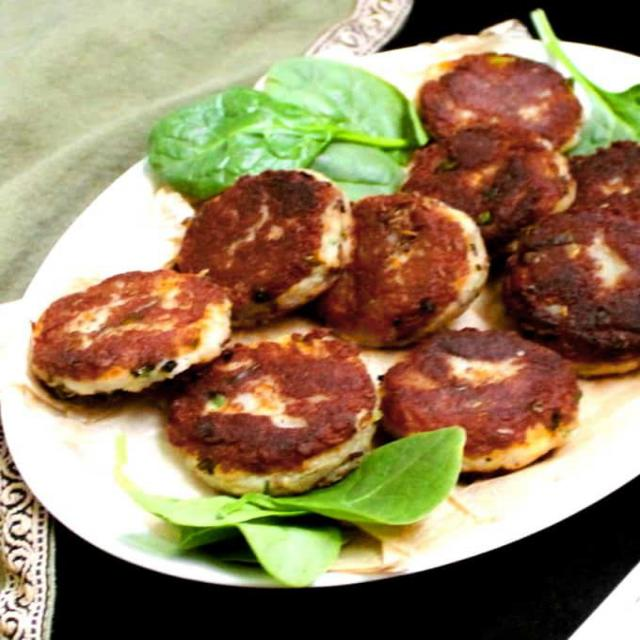Aloo Tikki: (164, 323, 374, 496), (379, 328, 573, 480), (172, 165, 355, 322), (309, 192, 489, 343), (26, 268, 232, 393), (504, 209, 640, 382), (404, 122, 573, 251), (419, 50, 577, 162), (560, 138, 639, 225)
